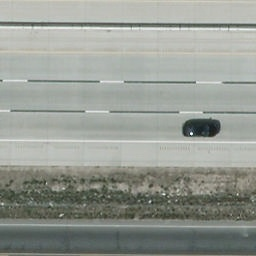car: (181, 119, 221, 137)
